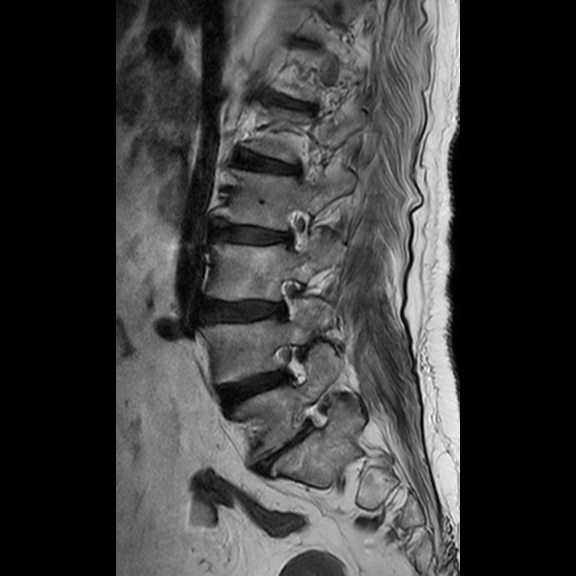RFS0: (267, 264, 313, 331), (263, 337, 316, 395), (271, 200, 313, 258)
